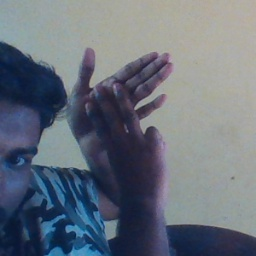M: (62, 49, 181, 170)
